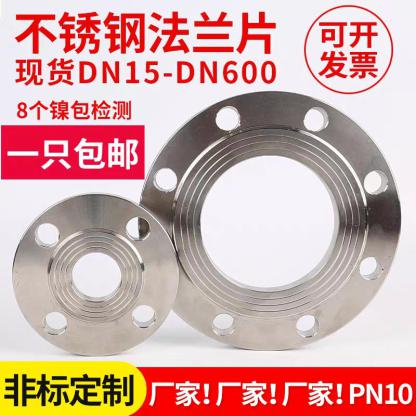FOD: (136, 86, 406, 354), (9, 187, 183, 357)
